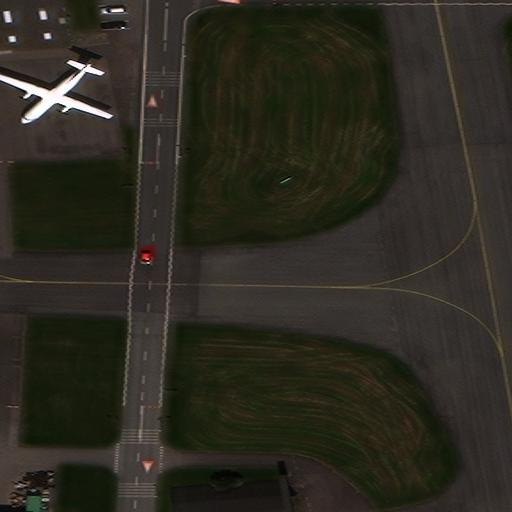Medium Civil Transport: (0, 63, 111, 123)
